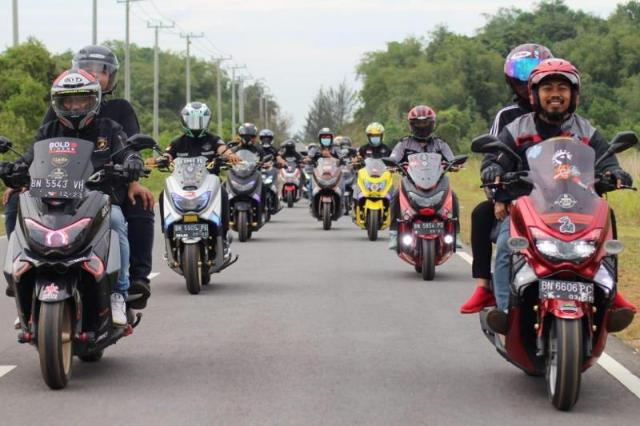helm: (50, 68, 104, 132), (529, 59, 585, 120), (505, 43, 558, 102), (74, 46, 122, 100), (181, 102, 213, 137), (409, 107, 439, 144), (368, 122, 387, 147), (239, 125, 259, 145), (320, 127, 335, 150), (261, 131, 276, 148), (286, 143, 297, 156)
motor: (2, 141, 153, 393), (154, 151, 238, 298), (384, 155, 472, 286), (227, 146, 266, 246), (278, 157, 304, 208)
